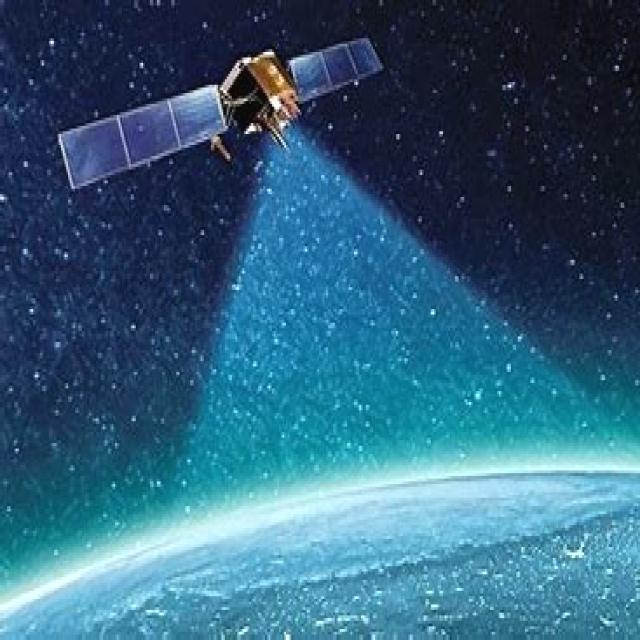medium_debris: (43, 15, 383, 206)
